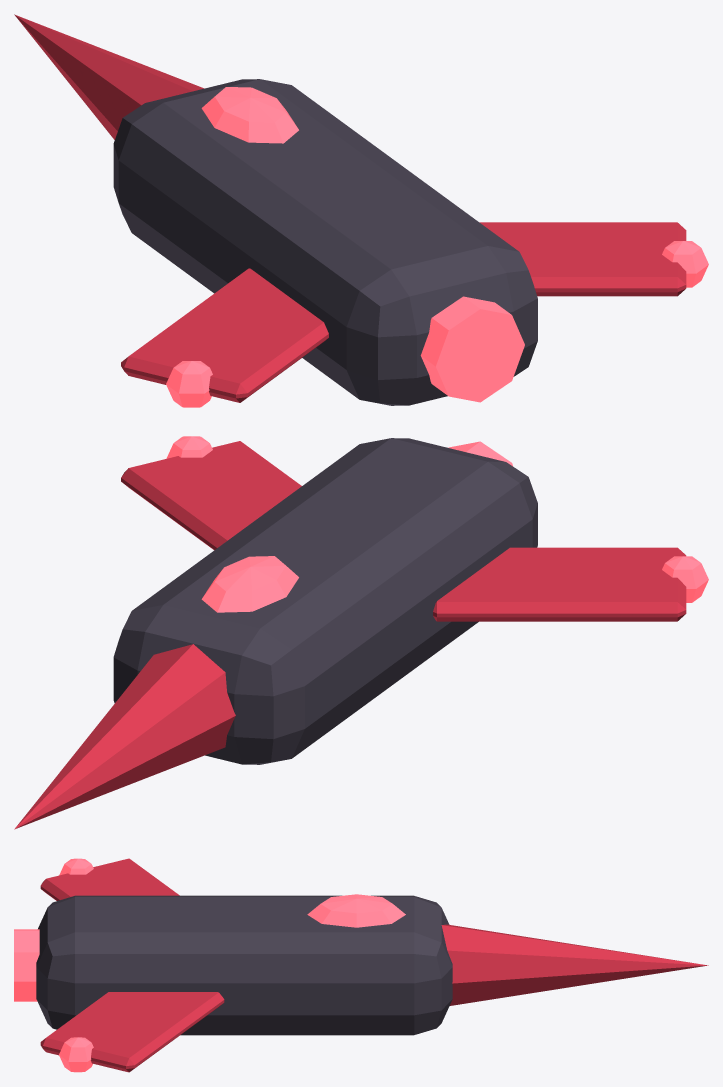
The model's file is enemy_lancer.glb.
3 renders of one model, top to bottom at view 1: azimuth 30°, elevation 25°; view 2: azimuth 150°, elevation 25°; view 3: azimuth 270°, elevation 25°, orthographic. The views are drawn at different scales.
Parts seen in each view (by area): view 1: enemy_lancer; view 2: enemy_lancer; view 3: enemy_lancer.
Part boxes in pixels (left/top/right/bottom): enemy_lancer: left=14, top=14, right=708, bottom=407; enemy_lancer: left=14, top=436, right=708, bottom=829; enemy_lancer: left=14, top=858, right=708, bottom=1072.
Bounding box in the file's own units: 1.51 × 0.405 × 2.17.
